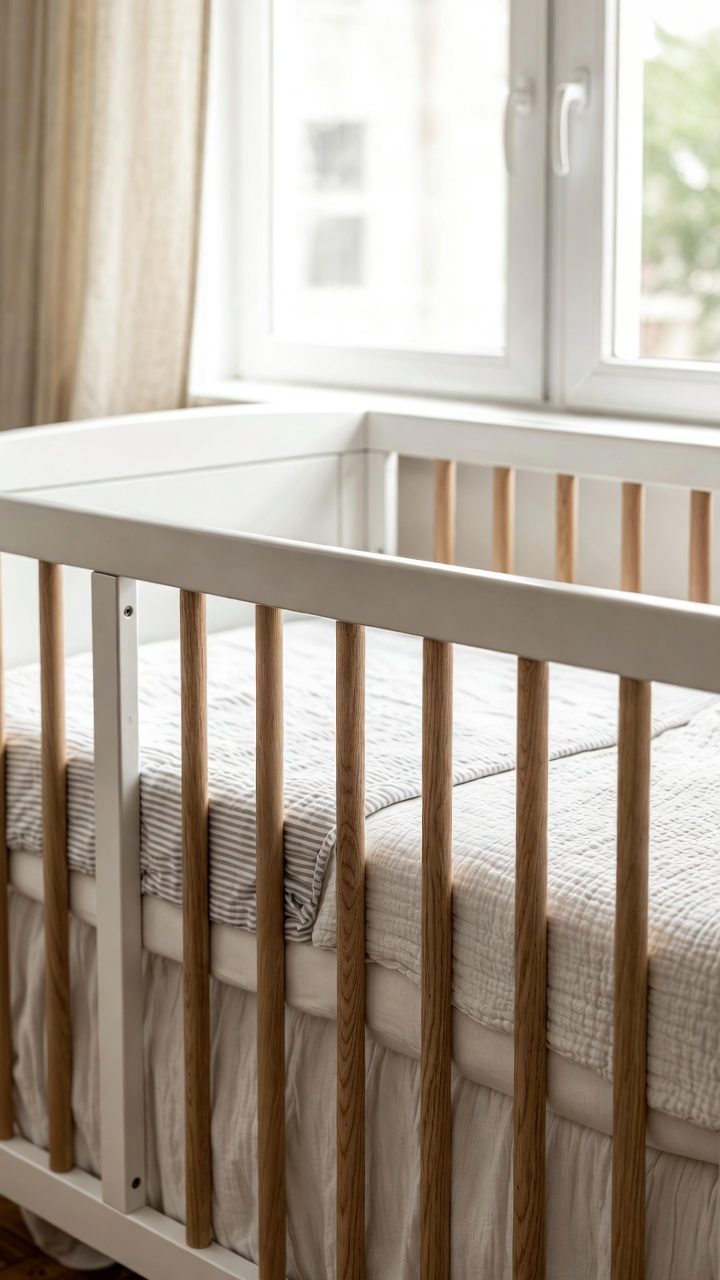crib: (0, 407, 719, 1279)
